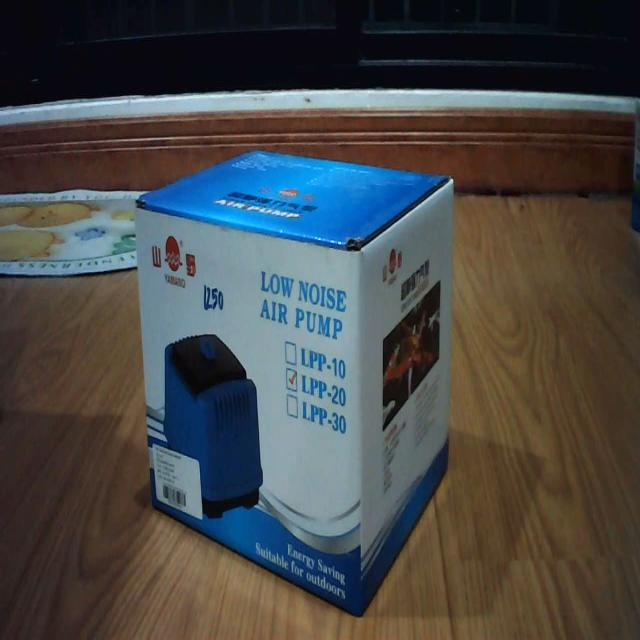YAMANO_LPP_20: (127, 139, 463, 631)
